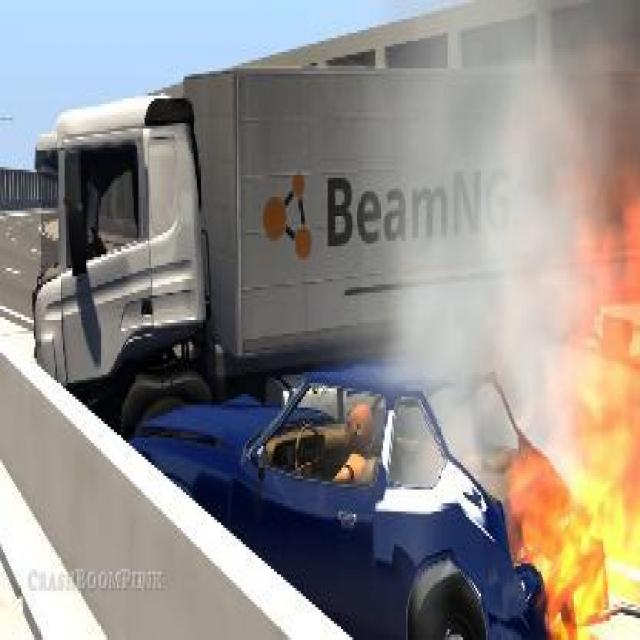accident: (26, 41, 639, 637)
